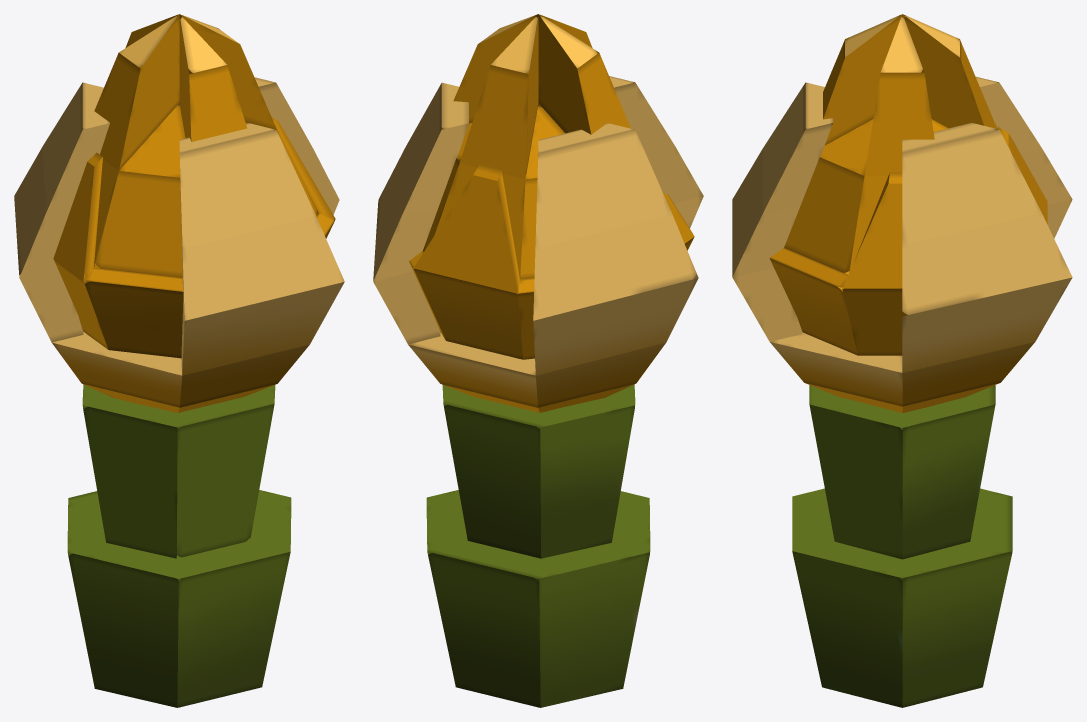
File: Dragon Fruit stage 1.fbx
3 views of the same model, side by side, from view 1: azimuth 30°, elevation 25°; view 2: azimuth 150°, elevation 25°; view 3: azimuth 270°, elevation 25° (orthographic).
Visible parts, largest first — view 1: DF1; view 2: DF1; view 3: DF1.
Part boxes in pixels (left/top/right/bottom): DF1: left=14, top=14, right=344, bottom=707; DF1: left=373, top=14, right=703, bottom=707; DF1: left=732, top=14, right=1072, bottom=707.
Size of the model in its own units: 39.48 by 77.04 by 36.4.
Materials: 1 (1 with a texture image).
